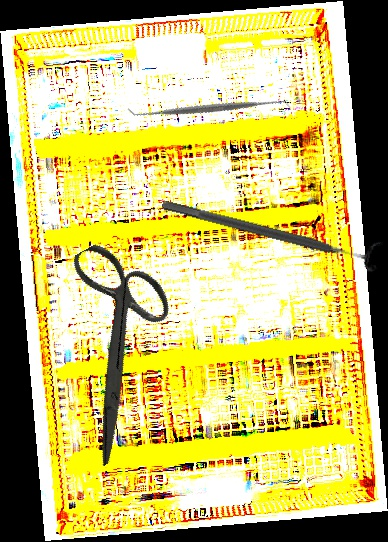Fixation Ring: (158, 187, 384, 276)
Iris Scissors: (5, 225, 225, 468)
Spatula Surgical: (126, 25, 292, 191)
